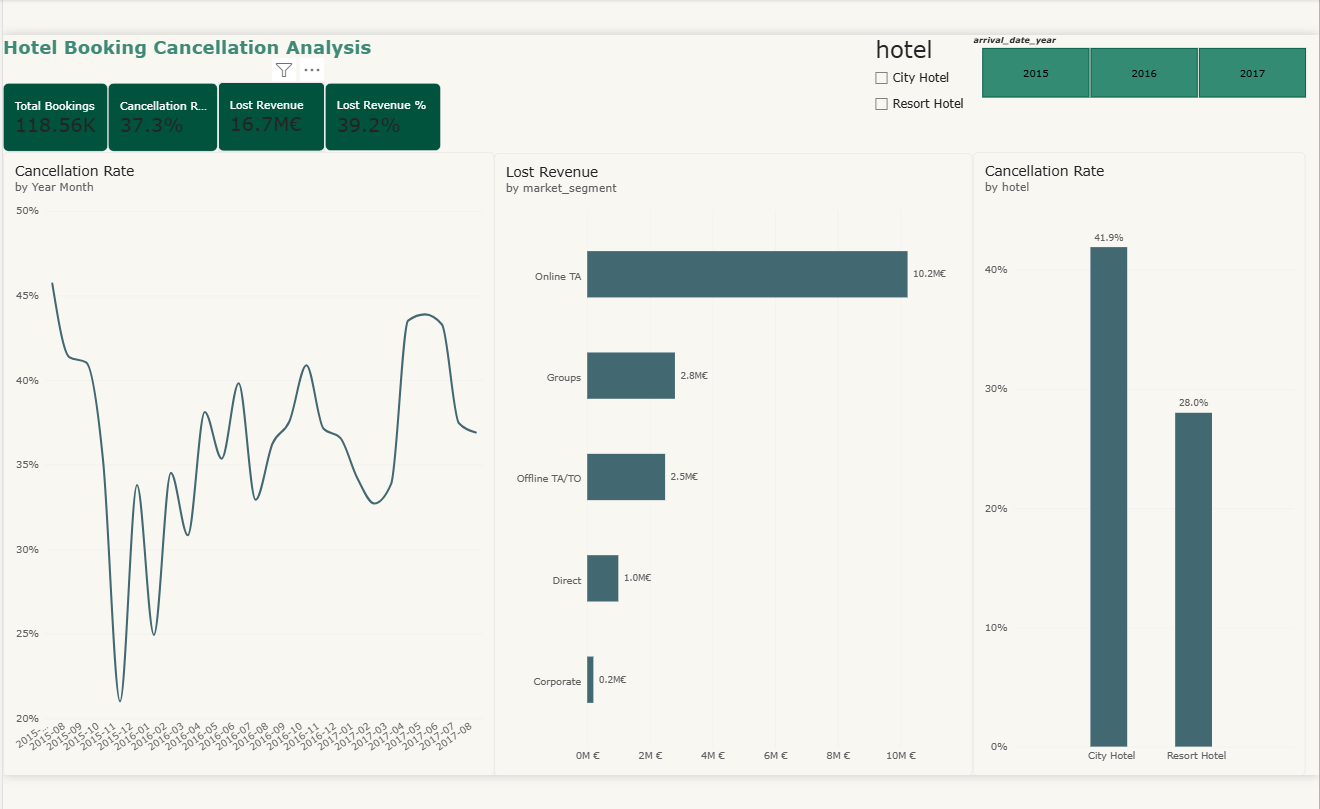

The dashboard page shown, as its layout file describes it:
{"tool":"powerbi","page":{"name":"Page 1","canvas":[1920,1080],"ordinal":0},"visuals":[{"type":"cardVisual","fields":{"Data":["_Measures.Total Bookings"]},"box":[0,70.7,153.2,100.7],"z":0},{"type":"cardVisual","fields":{"Data":["_Measures.Cancellation Rate"]},"box":[153.7,70.7,160.5,100.7],"z":1},{"type":"cardVisual","fields":{"Data":["_Measures.Lost Revenue"]},"box":[313.6,69.2,156.8,101.5],"z":2},{"type":"textbox","box":[0,0,753.4,69.1],"z":3},{"type":"cardVisual","fields":{"Data":["_Measures.Lost Revenue %"]},"box":[470.4,70.7,169.1,99.9],"z":4},{"type":"lineChart","fields":{"Category":["bookings.Year Month"],"Y":["_Measures.Cancellation Rate"]},"box":[0,170.7,716.8,910.5],"z":5},{"type":"clusteredColumnChart","fields":{"Category":["bookings.hotel"],"Y":["_Measures.Cancellation Rate"]},"box":[1414.6,170.7,485.1,910.5],"z":6},{"type":"clusteredBarChart","fields":{"Category":["bookings.market_segment"],"Y":["_Measures.Lost Revenue"]},"box":[716.9,171.6,698.3,909.8],"z":7},{"type":"slicer","fields":{"Values":["bookings.hotel"]},"box":[1264.9,0,150,150],"z":8},{"type":"slicer","fields":{"Values":["bookings.arrival_date_year"]},"box":[1407.9,0,512.1,93.1],"z":9}]}

Visuals, with their boxes on the page's 1920x1080 design canvas (x1, y1, x2, y2). These are canvas units, not pixel positions in the 1320x809 screenshot, which may show the page scaled, cropped or inside an application window:
cardVisual - _Measures.Total Bookings: [left=0, top=71, right=153, bottom=171]
cardVisual - _Measures.Cancellation Rate: [left=154, top=71, right=314, bottom=171]
cardVisual - _Measures.Lost Revenue: [left=314, top=69, right=470, bottom=171]
textbox: [left=0, top=0, right=753, bottom=69]
cardVisual - _Measures.Lost Revenue %: [left=470, top=71, right=640, bottom=171]
lineChart - bookings.Year Month x _Measures.Cancellation Rate: [left=0, top=171, right=717, bottom=1081]
clusteredColumnChart - bookings.hotel x _Measures.Cancellation Rate: [left=1415, top=171, right=1900, bottom=1081]
clusteredBarChart - bookings.market_segment x _Measures.Lost Revenue: [left=717, top=172, right=1415, bottom=1081]
slicer - bookings.hotel: [left=1265, top=0, right=1415, bottom=150]
slicer - bookings.arrival_date_year: [left=1408, top=0, right=1920, bottom=93]
